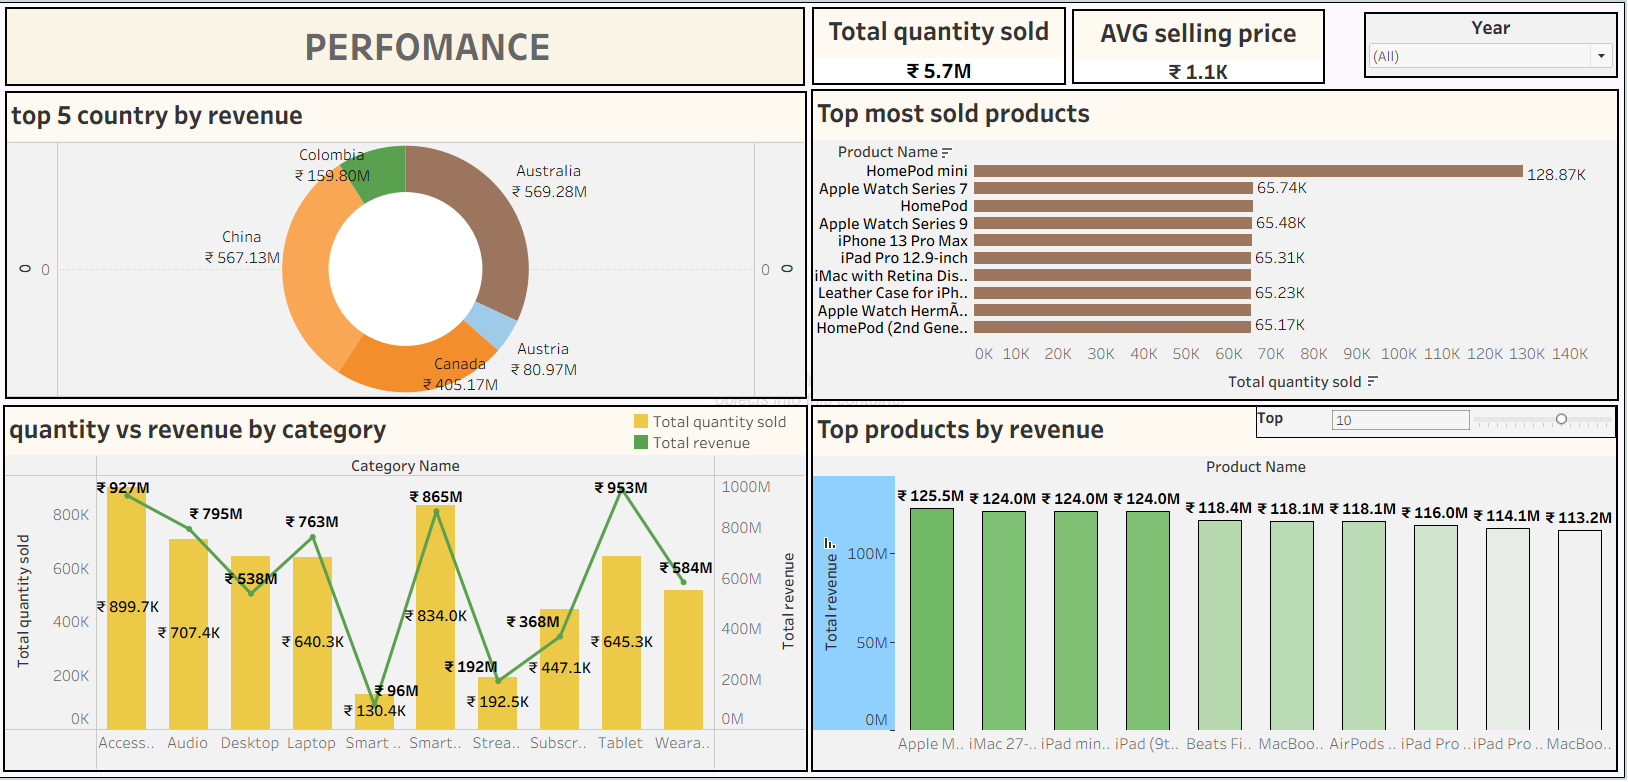

This screenshot's page, from the dashboard's own definition file:
{"tool":"tableau","page":{"name":"Perfomance","canvas":[1000,1000],"units":"permille","ordinal":3},"visuals":[{"type":"text","box":[187.9,11.2,155.2,97.3]},{"type":"worksheet","title":"Total quantity sold KPI","mark":"Automatic","box":[499.7,11.5,154.8,99.4]},{"type":"worksheet","title":"AVG selling price kpi","mark":"Automatic","box":[658.2,13.7,153.9,96]},{"type":"filter","title":"AVG selling price kpi","param":"[federated.07ung0n18wcl6o1au17g21hvnd9n].[yr:sale_date:ok]","box":[836.1,17.8,154.8,84.1]},{"type":"worksheet","title":"Top most sold products","mark":"Automatic","rows":["Product_Name"],"cols":["Calculation_1114640926342651904"],"box":[499.4,116,492.1,397.8]},{"type":"worksheet","title":"top 5 country by revenue","mark":"Pie","rows":["Calculation_1476054797446803464","Calculation_1476054797446828042"],"box":[7.9,118.5,488.7,392.4]},{"type":"legend","title":"quantity vs revenue by category","param":"[federated.07ung0n18wcl6o1au17g21hvnd9n].[:Measure Names]","box":[389.7,497.5,97.6,96]},{"type":"worksheet","title":"quantity vs revenue by category","mark":"Bar","rows":["Calculation_1114640926342651904","Calculation_1114640926342770689"],"cols":["category_name"],"box":[6.7,518.7,490.3,467.6]},{"type":"worksheet","title":"Top products by revenue","mark":"Automatic","rows":["Calculation_1114640926342770689"],"cols":["Product_Name"],"box":[499.4,518.7,491.5,467.6]},{"type":"parameter","param":"[Parameters].[Parameter 1]","box":[770.3,520,219.4,41.1]}]}

Visuals, with their boxes on the dashboard's canvas, which has no fixed pixel size, in thousandths of its width and height (x1, y1, x2, y2). These are canvas units, not pixel positions in the 1628x782 screenshot, which may show the page scaled, cropped or inside an application window:
text: rect(188, 11, 343, 108)
"Total quantity sold KPI" worksheet: rect(500, 12, 654, 111)
"AVG selling price kpi" worksheet: rect(658, 14, 812, 110)
"AVG selling price kpi" filter: rect(836, 18, 991, 102)
"Top most sold products" worksheet: rect(499, 116, 992, 514)
"top 5 country by revenue" worksheet (Pie marks): rect(8, 118, 497, 511)
"quantity vs revenue by category" legend: rect(390, 498, 487, 594)
"quantity vs revenue by category" worksheet (Bar marks): rect(7, 519, 497, 986)
"Top products by revenue" worksheet: rect(499, 519, 991, 986)
parameter: rect(770, 520, 990, 561)
